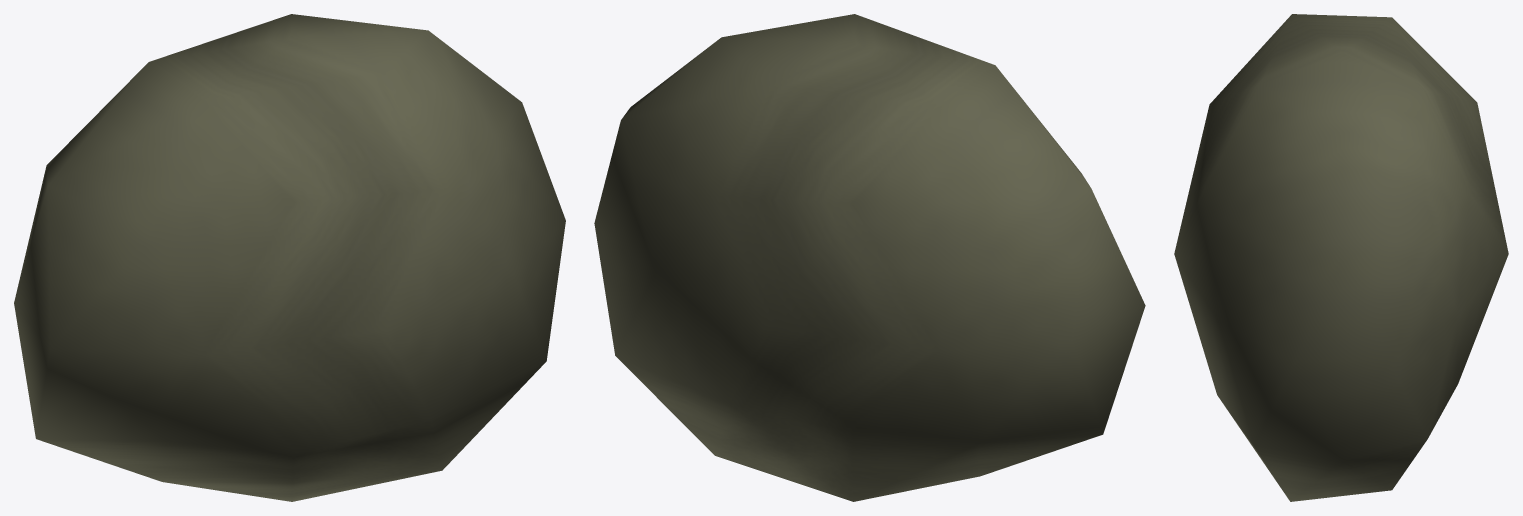
Rendered from Rock_4.fbx.
3 renders of one model, left to right at view 1: azimuth 30°, elevation 25°; view 2: azimuth 150°, elevation 25°; view 3: azimuth 270°, elevation 25°, orthographic. The views are drawn at different scales.
Parts seen in each view (by area): view 1: Rock_4; view 2: Rock_4; view 3: Rock_4.
Boxes of the visible parts, bbox=[...] form: Rock_4: bbox=[14, 14, 565, 501]; Rock_4: bbox=[594, 14, 1145, 501]; Rock_4: bbox=[1174, 14, 1508, 501].
Size of the model in its own units: 97.66 by 83.62 by 60.89.
1 material, 1 textured.
